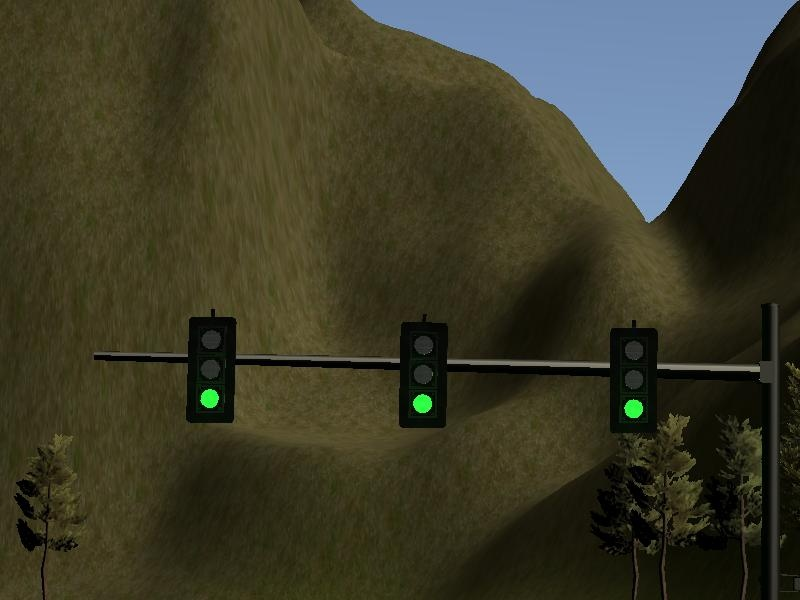GREEN: (185, 316, 235, 423), (396, 322, 446, 429), (608, 326, 658, 433)
